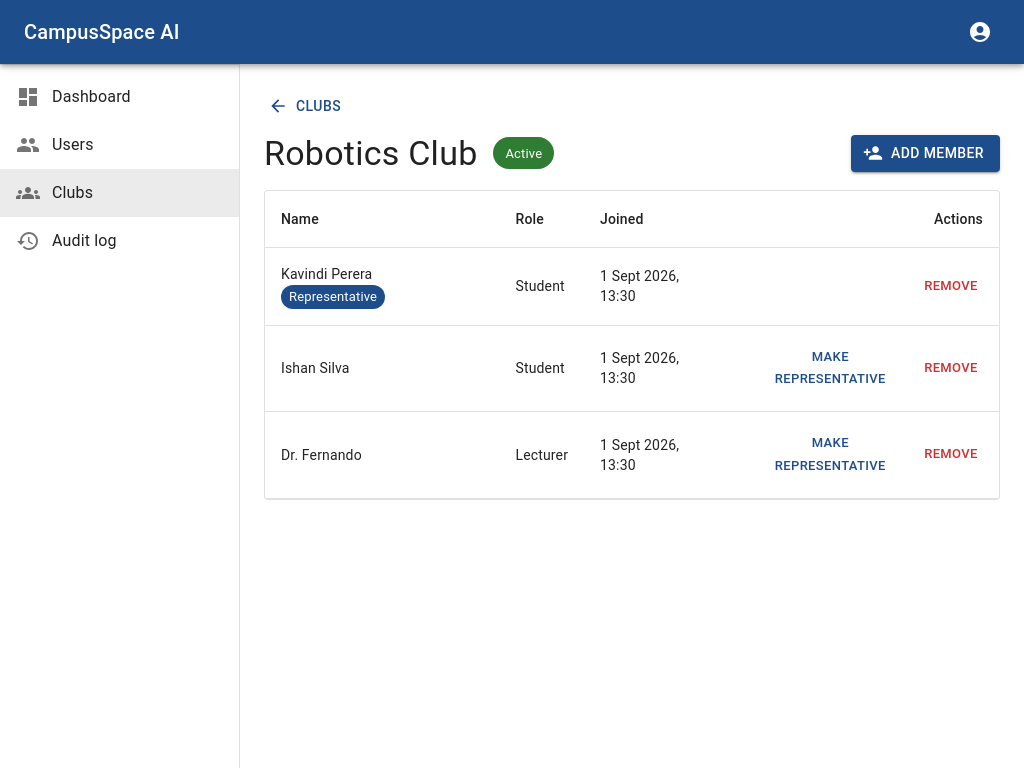
ClubDetailPage › shows a 400 rule error inside the add-member dialog
What coordinates should you click on to do the following:
click the button "Add member"
I would click on:
 (926, 153)
Its box is [851,135,1000,172].
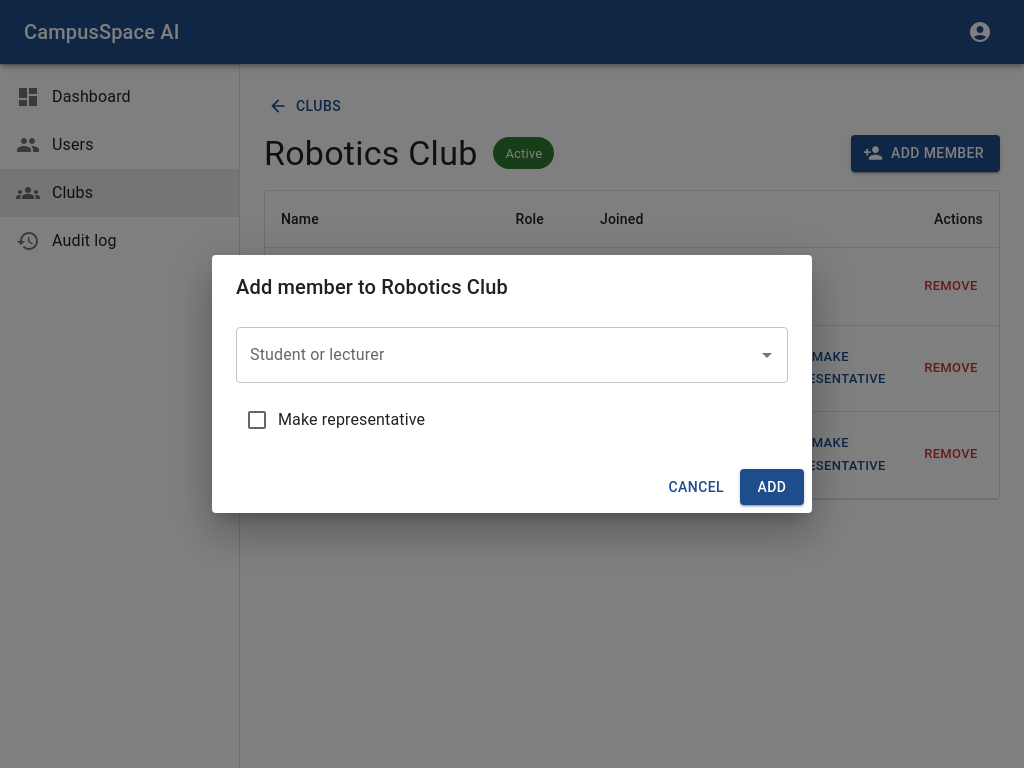
What coordinates should you click on to do the following:
click the dropdown labelled "Student or lecturer"
I would click on:
 (497, 355)
Its box is [245,336,749,374].
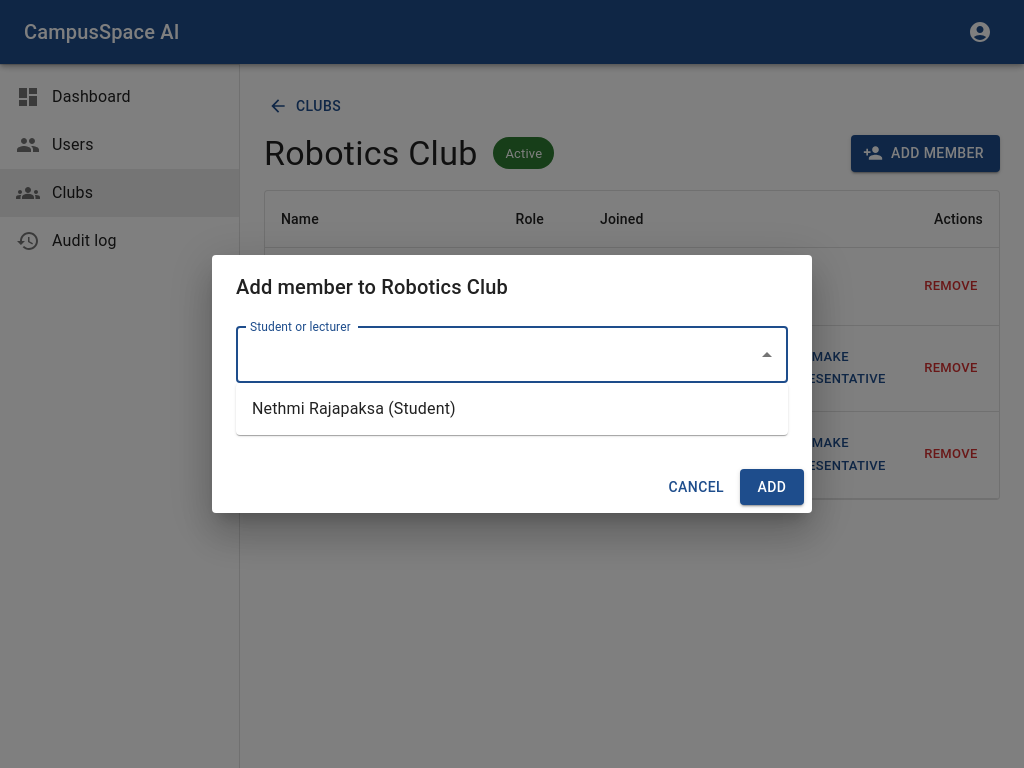
What coordinates should you click on to do the following:
click the option "Nethmi Rajapaksa (Student)"
I would click on:
 (354, 408)
Its box is [252,399,456,418].
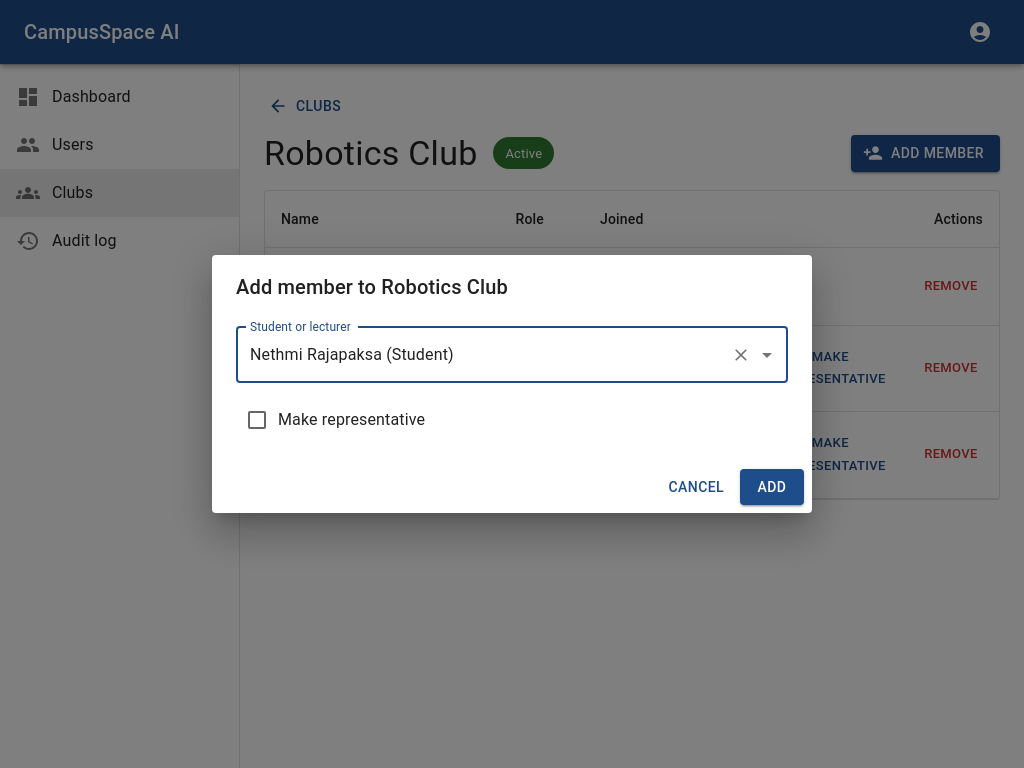
What coordinates should you click on to do the following:
click the button "Add"
I would click on:
 (772, 487)
Its box is [740,469,804,505].
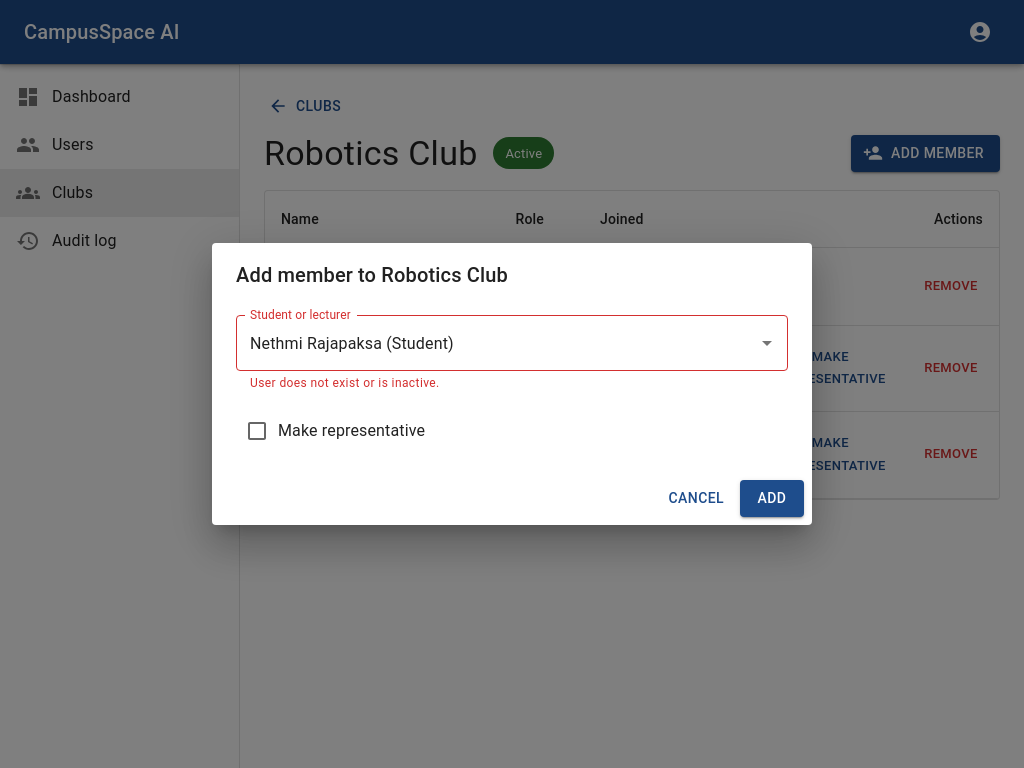
Result: the dialog "Add member to" is shown at [212,243,812,525]
Result: the text "User does not exist or is inactive." is shown at [250,376,440,390]
